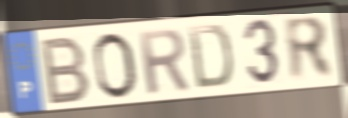3: (240, 15, 282, 89)
B: (40, 34, 93, 108)
D: (185, 23, 235, 91)
O: (91, 30, 140, 102)
R: (135, 26, 192, 97), (280, 14, 337, 85)
